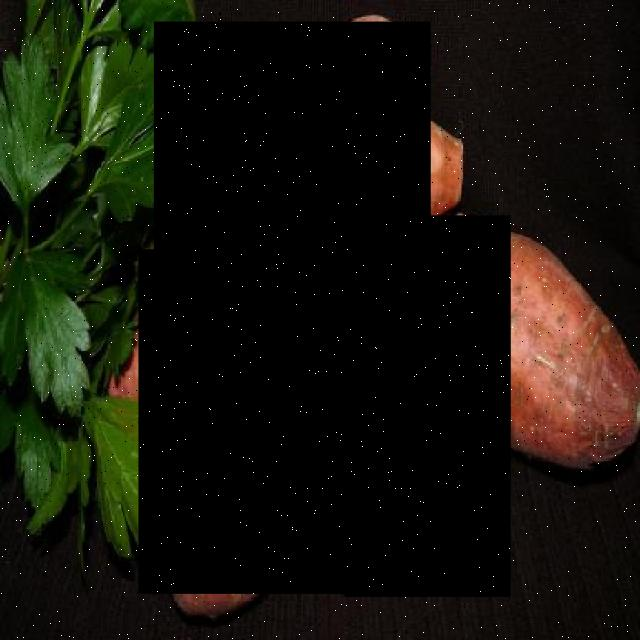Sweet_Potato: (138, 249, 377, 594), (154, 21, 432, 290), (345, 215, 510, 597)
